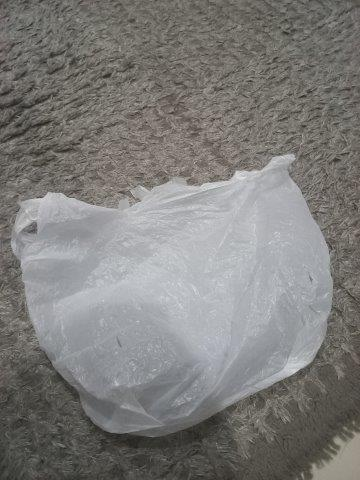plastik: (12, 153, 335, 438)
